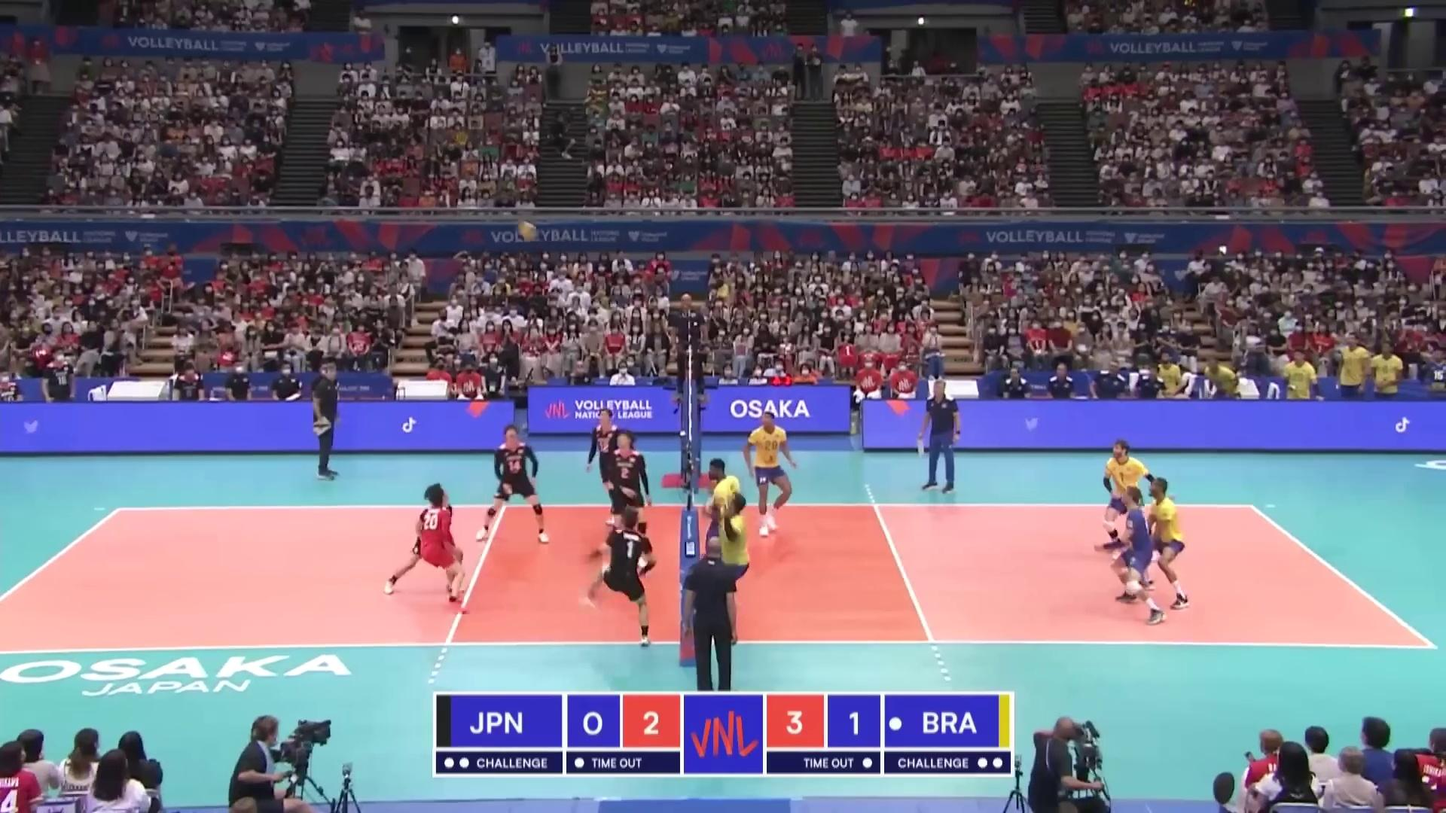player: (582, 506, 658, 645), (385, 486, 472, 604), (477, 426, 548, 548), (1111, 484, 1167, 626), (1139, 478, 1191, 607), (600, 433, 651, 564), (708, 492, 751, 646), (745, 411, 797, 537), (418, 489, 467, 616), (1101, 440, 1153, 556), (704, 458, 742, 600), (588, 405, 623, 480)
refree: (685, 538, 737, 694), (669, 295, 709, 403)
